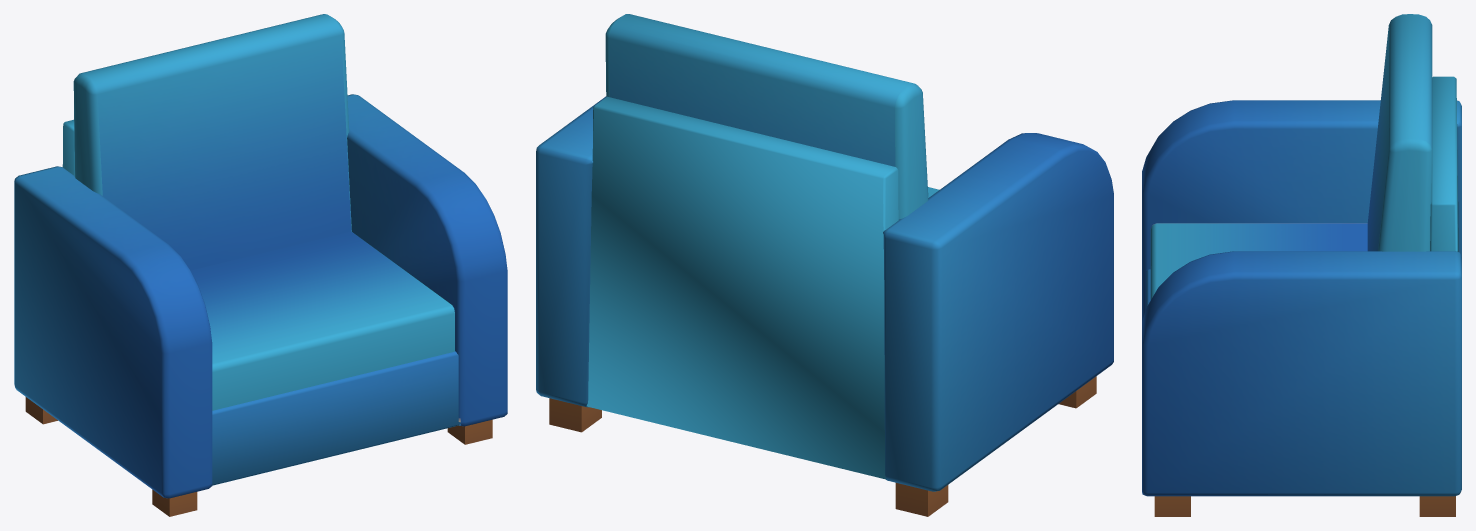
Rendered from Couch_Chair_bleu.FBX.
3 renders of one model, left to right at view 1: azimuth 30°, elevation 25°; view 2: azimuth 150°, elevation 25°; view 3: azimuth 270°, elevation 25°, orthographic. The views are drawn at different scales.
Size of the model in its own units: 101 by 95.82 by 77.61.
Materials: 1 (1 with a texture image).
